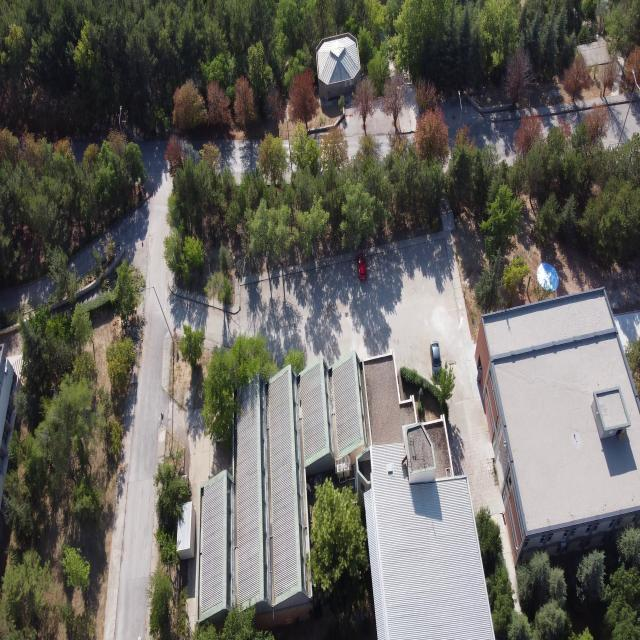vehicle: (537, 262, 559, 292), (431, 340, 442, 375), (358, 251, 367, 281)
